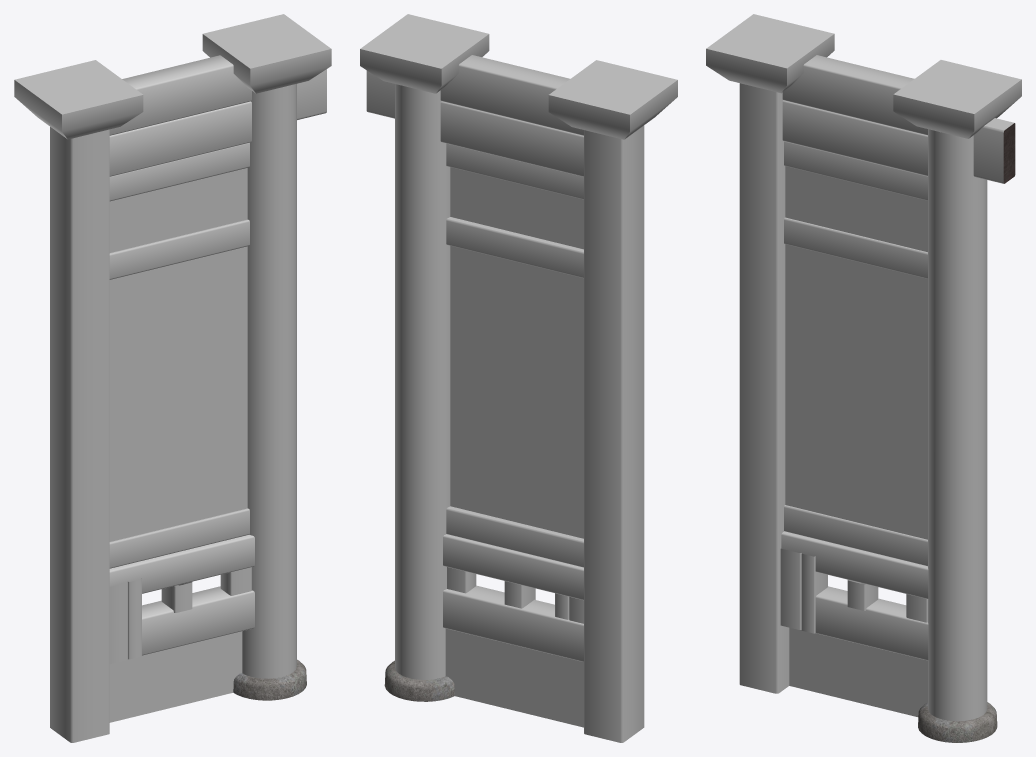
Rendered from SM_Building_Wall_46.FBX.
3 renders of one model, left to right at view 1: azimuth 30°, elevation 25°; view 2: azimuth 150°, elevation 25°; view 3: azimuth 330°, elevation 25°, orthographic.
Parts seen in each view (by area): view 1: SM_Building_Wall_46; view 2: SM_Building_Wall_46; view 3: SM_Building_Wall_46.
Part boxes in pixels (left/top/right/bottom): SM_Building_Wall_46: left=14, top=14, right=331, bottom=742; SM_Building_Wall_46: left=360, top=14, right=677, bottom=742; SM_Building_Wall_46: left=706, top=14, right=1021, bottom=742.
Size of the model in its own units: 279 by 607 by 81.74.
